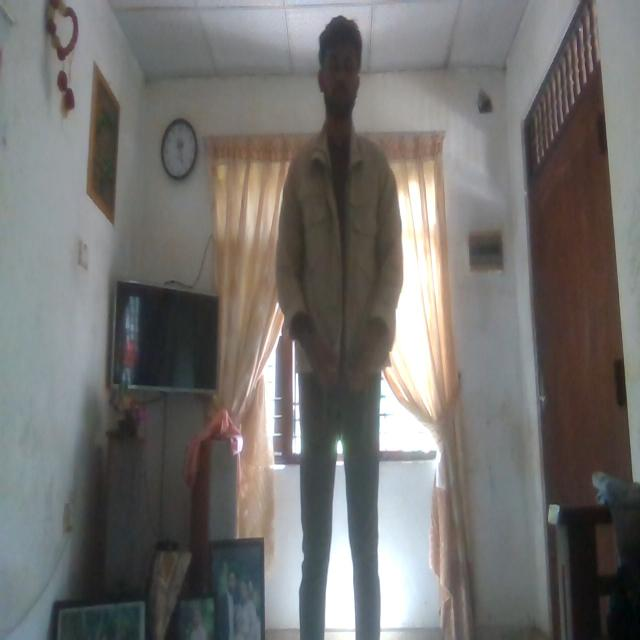Jacket_Wearer: (269, 122, 407, 392)
Person: (283, 19, 402, 636)
